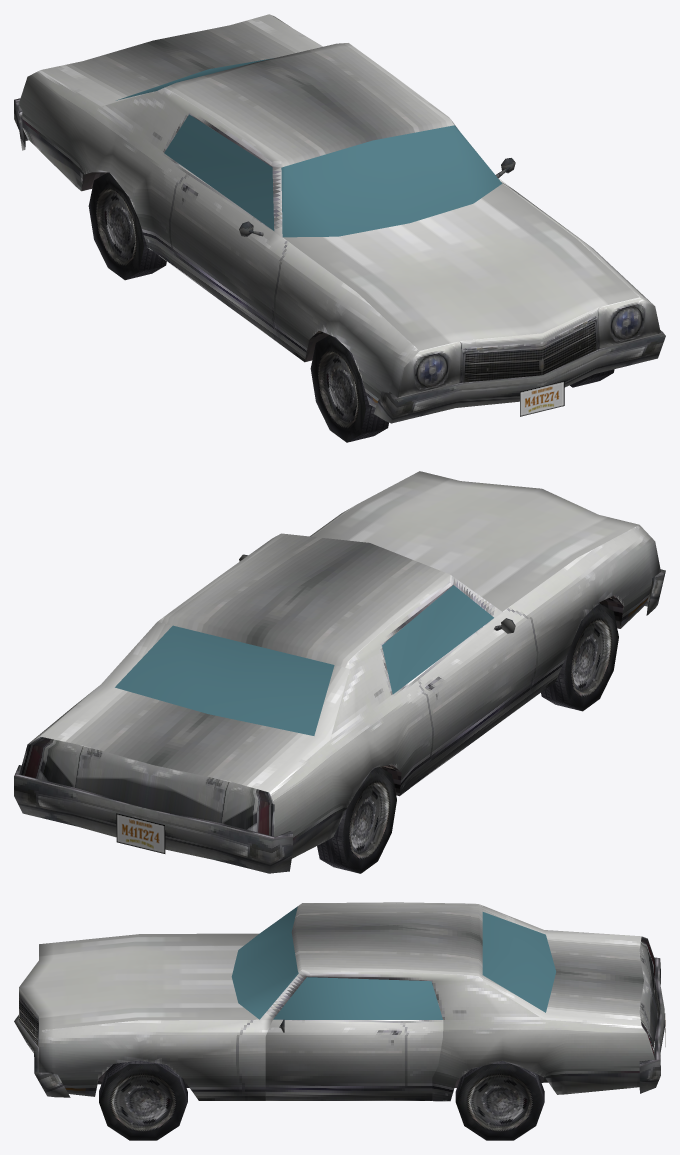
Rendered from CarSeparated.fbx.
3 renders of one model, top to bottom at view 1: azimuth 30°, elevation 25°; view 2: azimuth 150°, elevation 25°; view 3: azimuth 270°, elevation 25°, orthographic. The views are drawn at different scales.
Parts seen in each view (by area): view 1: Carro, RodaDireita, RodasTraseiras, Placa; view 2: Carro, RodasTraseiras, RodaDireita, Placa; view 3: Carro, Porta, RodaEsquerda, RodasTraseiras.
Boxes of the visible parts, x1,y1,x2,y2 form: Carro: (14,14,665,423); RodaDireita: (310,335,388,442); RodasTraseiras: (88,172,166,280); Placa: (520,381,564,416); Carro: (14,471,665,873); RodasTraseiras: (317,767,396,873); RodaDireita: (541,603,618,711); Placa: (116,813,165,853); Carro: (14,902,665,1101); Porta: (265,977,443,1100); RodaEsquerda: (99,1060,187,1140); RodasTraseiras: (455,1061,544,1140).
Size of the model in its own units: 200 by 141 by 509.
Materials: 4 (2 with a texture image).
